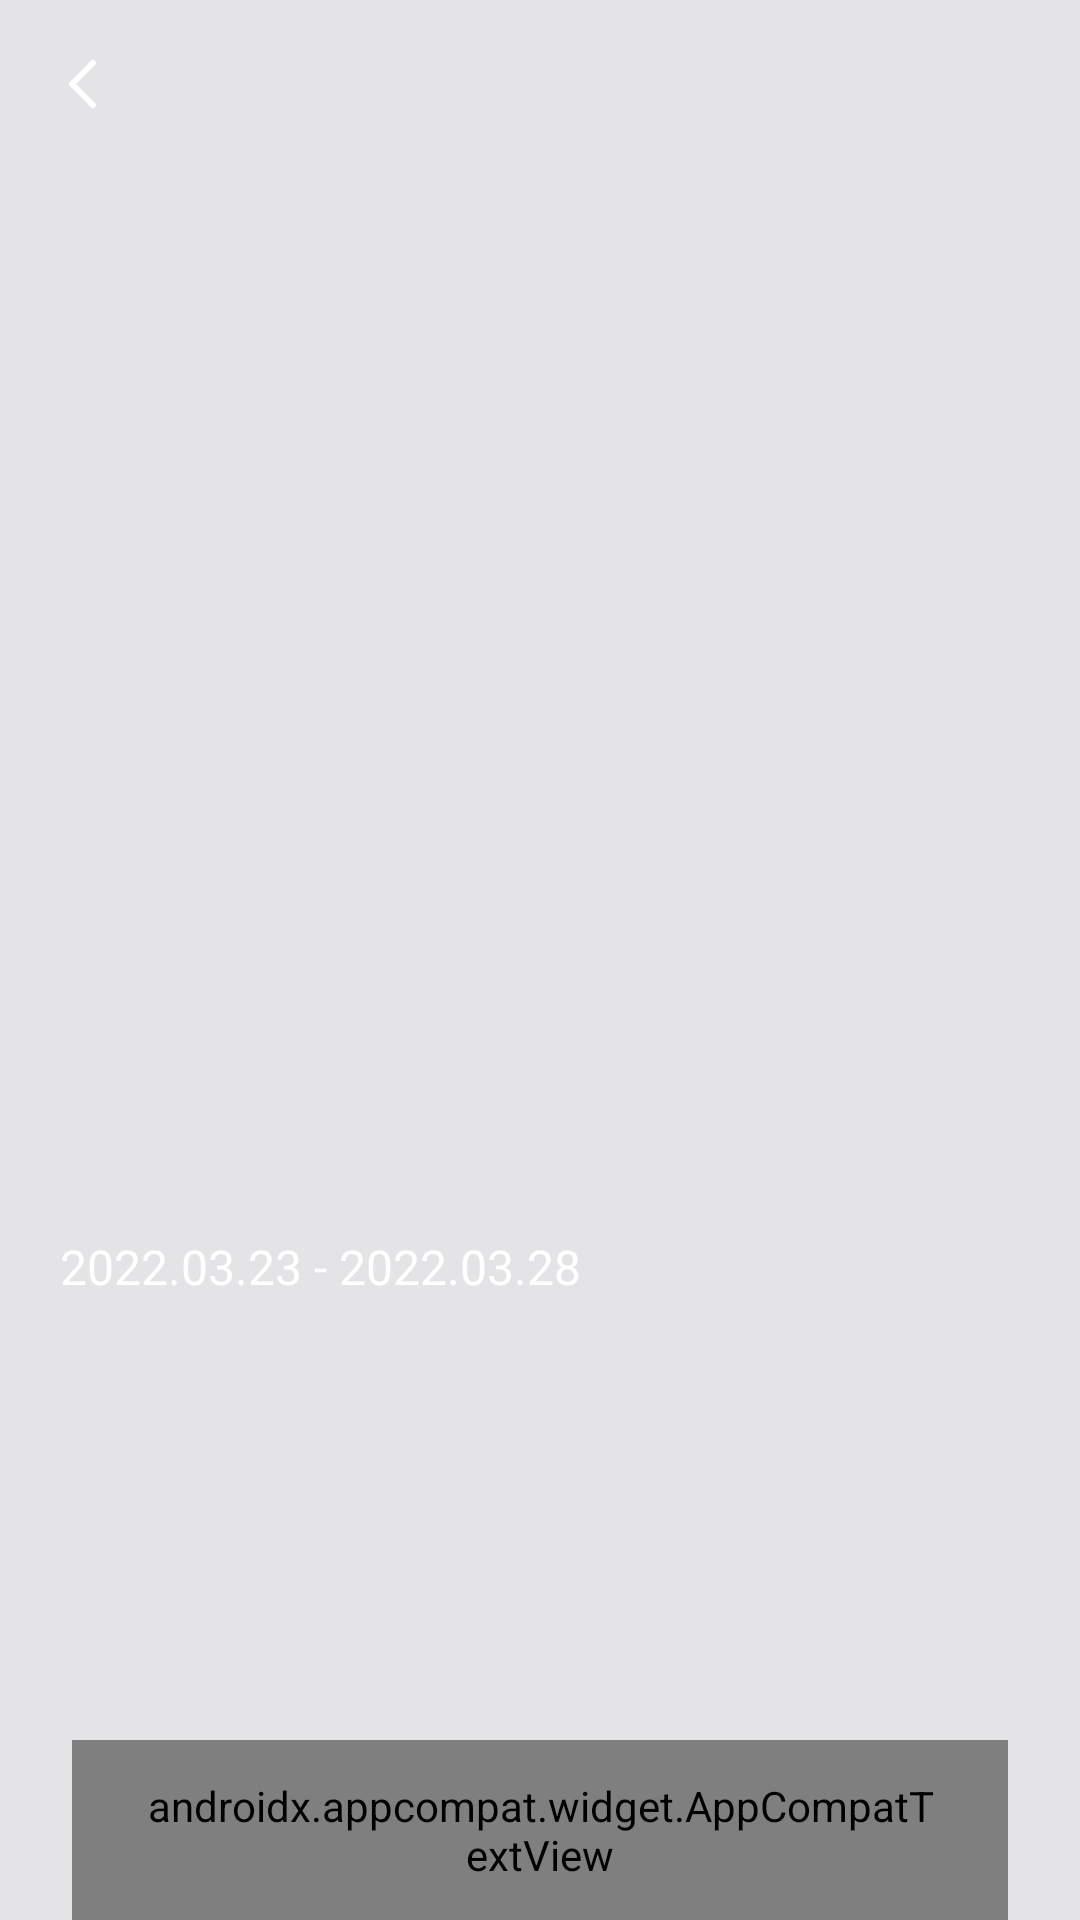

Named icons in this screenshot (1080x1920) and their centers, (x,y):
back: (82,84)
